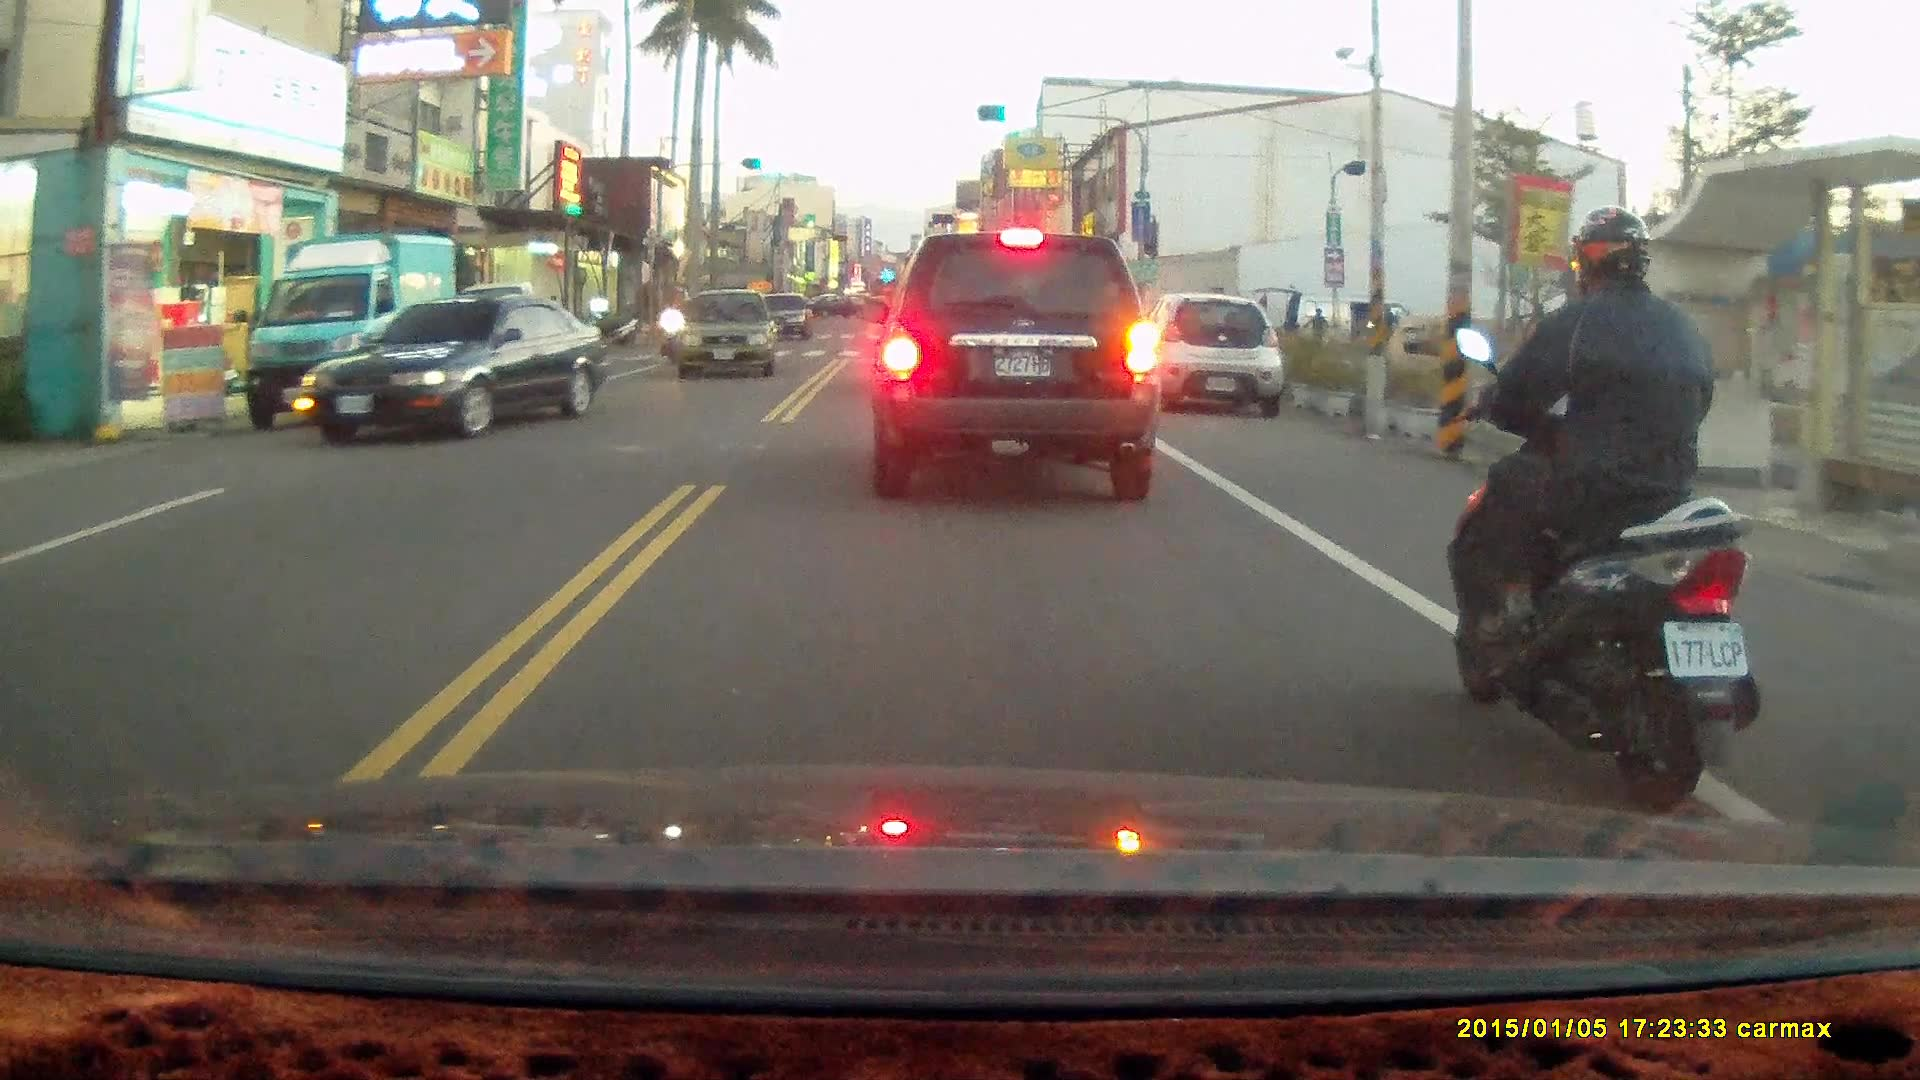rider: (1445, 199, 1760, 808), (655, 283, 694, 366)
vehicle: (870, 228, 1158, 503), (299, 291, 611, 438), (242, 231, 464, 430), (1142, 291, 1286, 419), (672, 288, 782, 383)
